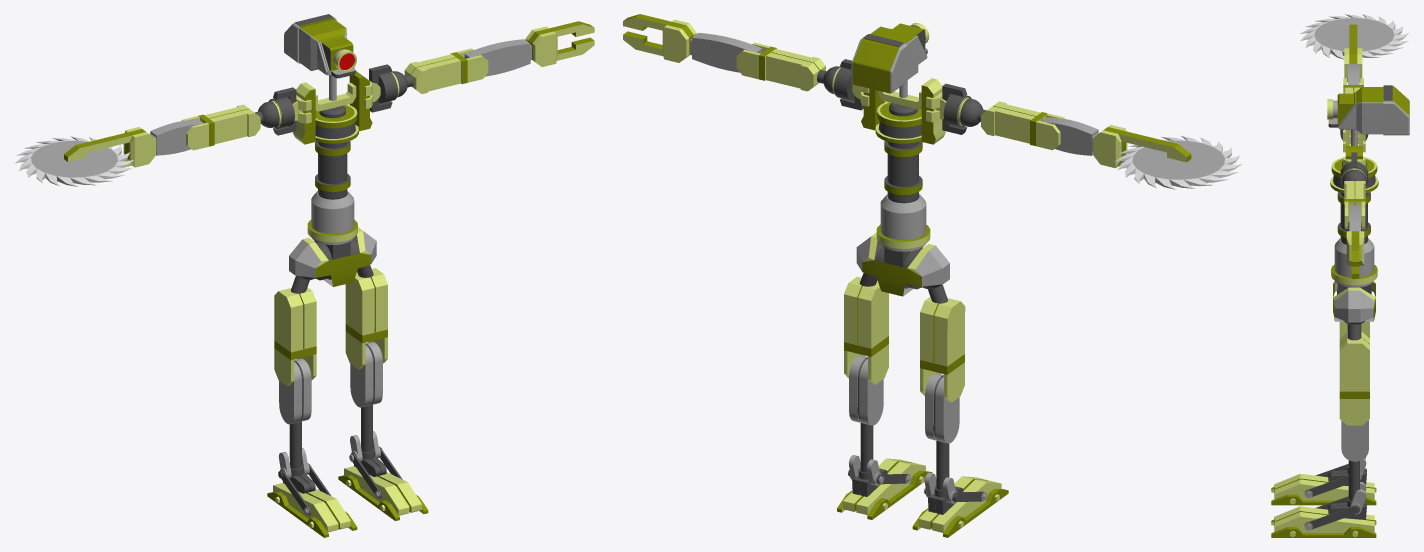
The model's file is slasher.fbx.
3 views of the same model, side by side, from view 1: azimuth 30°, elevation 25°; view 2: azimuth 150°, elevation 25°; view 3: azimuth 270°, elevation 25° (orthographic). The views are drawn at different scales.
Visible parts, largest first — view 1: pCube10 (×2), pCube41 (×2), pCube14 (×2), pCylinder34, pCube46, pCube13, pCube16 (×2), pCube45, pCube42 (×2), pCube44, pCube11 (×2), pCylinder2 (+5 smaller); view 2: pCube10 (×2), pCube41 (×2), pCube14 (×2), pCylinder34, pCube45, pCube46, pCube13, pCube16 (×2), pCube42 (×2), pCube11 (×2), pCube44, pCylinder2 (+5 smaller); view 3: pCube41 (×2), pCube45, pCylinder34, pCube13, pCube44, pCube42 (×2), pCube14 (×2), pCylinder2, pCylinder30 (×2), pCube10 (×2), pCube16, pCylinder4 (+9 smaller).
Part boxes in pixels (<box>): pCube10 (×2): <box>181,48,488,150</box>; pCube41 (×2): <box>267,466,428,537</box>; pCube14 (×2): <box>64,21,594,167</box>; pCylinder34: <box>14,136,133,186</box>; pCube46: <box>274,287,316,386</box>; pCube13: <box>345,268,387,369</box>; pCube16 (×2): <box>279,341,382,424</box>; pCube45: <box>284,14,355,78</box>; pCube42 (×2): <box>278,405,386,493</box>; pCube44: <box>289,227,376,286</box>; pCube11 (×2): <box>150,39,531,155</box>; pCylinder2: <box>307,191,357,244</box>; pCube10 (×2): <box>736,42,1065,150</box>; pCube41 (×2): <box>837,458,1008,537</box>; pCube14 (×2): <box>623,14,1191,168</box>; pCylinder34: <box>1115,136,1242,189</box>; pCube45: <box>851,23,927,93</box>; pCube46: <box>920,297,965,402</box>; pCube13: <box>844,276,888,384</box>; pCube16 (×2): <box>849,355,959,443</box>; pCube42 (×2): <box>848,423,963,514</box>; pCube11 (×2): <box>690,33,1098,155</box>; pCube44: <box>856,232,949,296</box>; pCylinder2: <box>876,193,930,251</box>; pCube41 (×2): <box>1271,474,1376,537</box>; pCube45: <box>1328,85,1409,135</box>; pCylinder34: <box>1300,14,1408,60</box>; pCube13: <box>1339,332,1369,425</box>; pCube44: <box>1333,281,1375,322</box>; pCube42 (×2): <box>1328,457,1366,519</box>; pCube14 (×2): <box>1344,24,1364,278</box>; pCylinder2: <box>1331,238,1377,287</box>; pCylinder30 (×2): <box>1304,464,1359,530</box>; pCube10 (×2): <box>1343,78,1365,229</box>; pCube16: <box>1341,420,1368,461</box>; pCylinder4: <box>1330,157,1378,193</box>.
Size of the model in its own units: 19.09 by 14.69 by 4.35.
